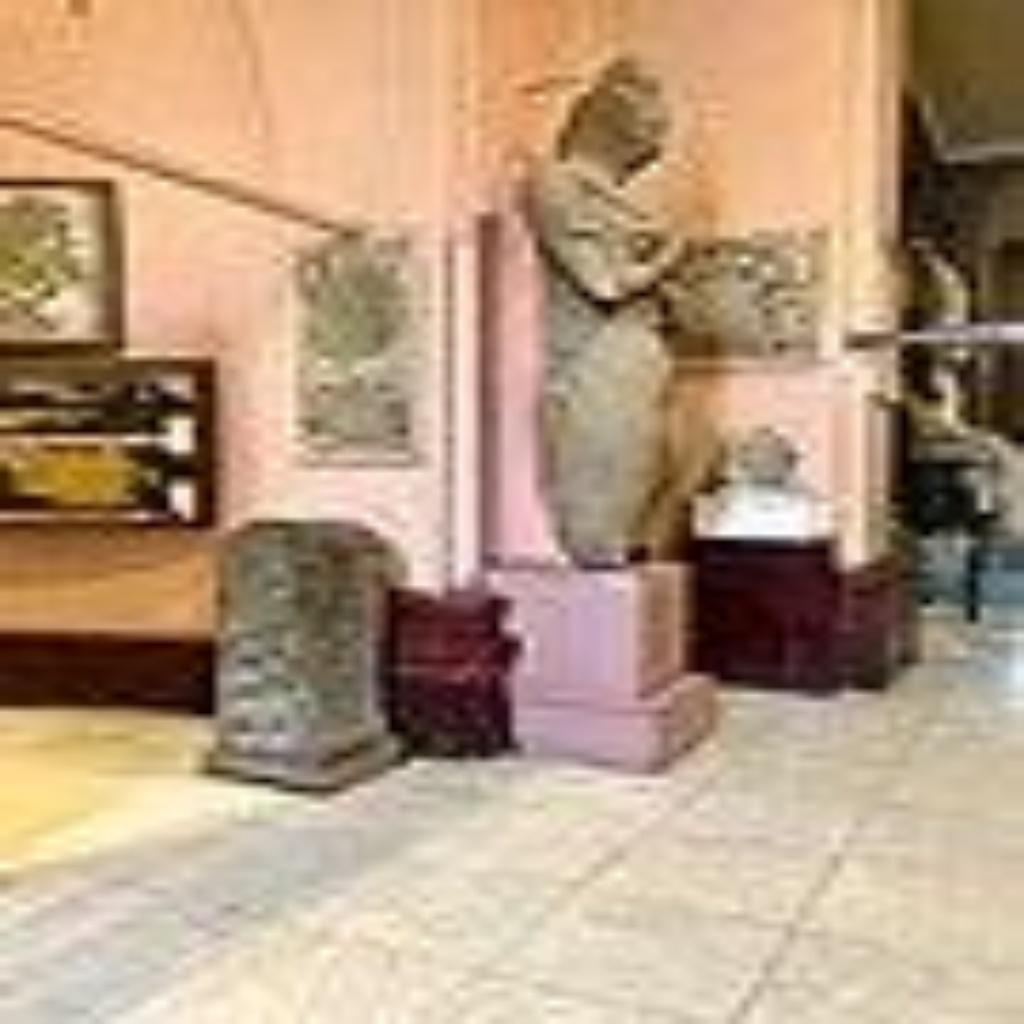Akhenaten: (501, 41, 736, 570)
